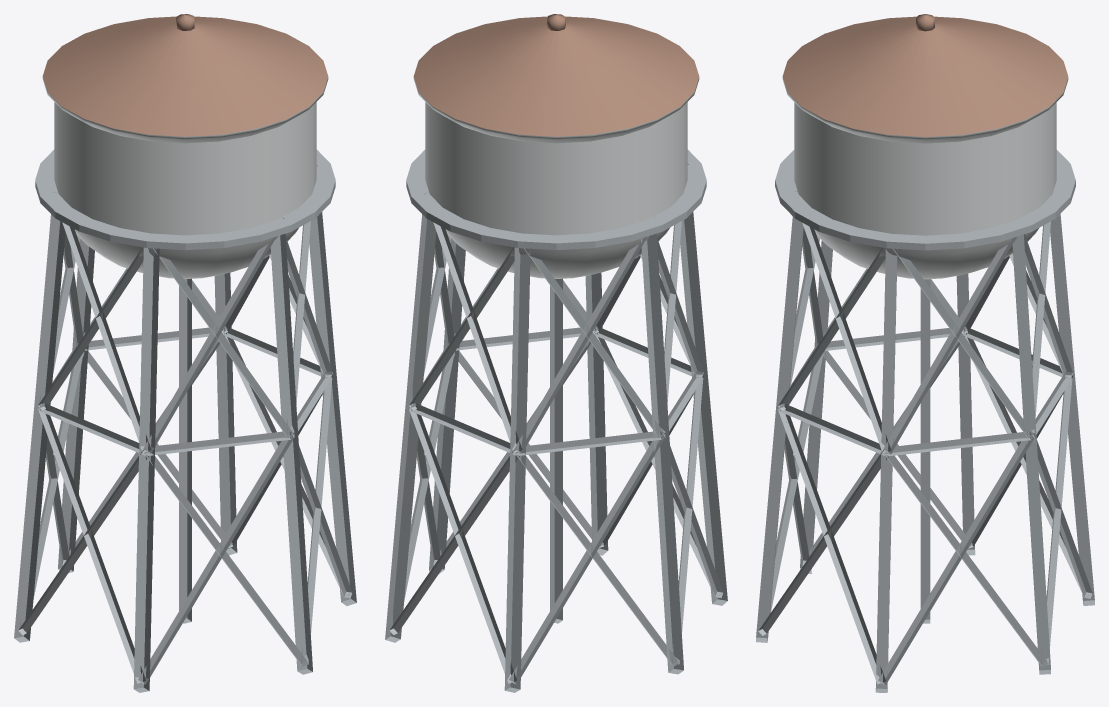
Rendered from sf-alcatraz-water-tower.glb.
3 renders of one model, left to right at view 1: azimuth 30°, elevation 25°; view 2: azimuth 150°, elevation 25°; view 3: azimuth 270°, elevation 25°, orthographic.
Visible parts, largest first — view 1: Alcatraz water tower; view 2: Alcatraz water tower; view 3: Alcatraz water tower.
Boxes of the visible parts, x1,y1,x2,y2 form: Alcatraz water tower: [14, 14, 356, 692]; Alcatraz water tower: [385, 14, 727, 692]; Alcatraz water tower: [756, 14, 1094, 692].
Size of the model in its own units: 16 by 31.63 by 16.
